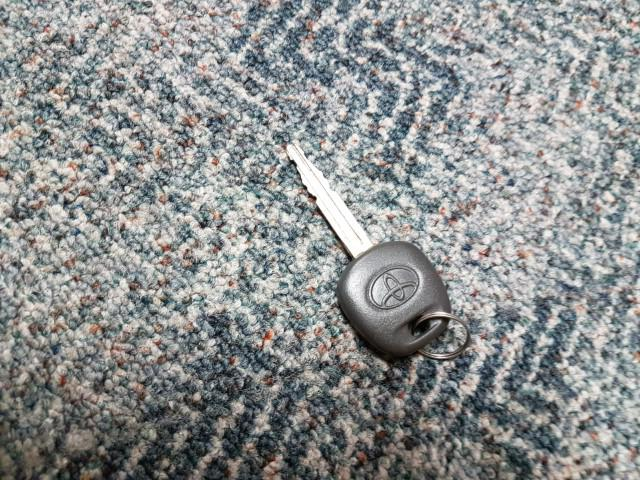key: (286, 144, 452, 359)
